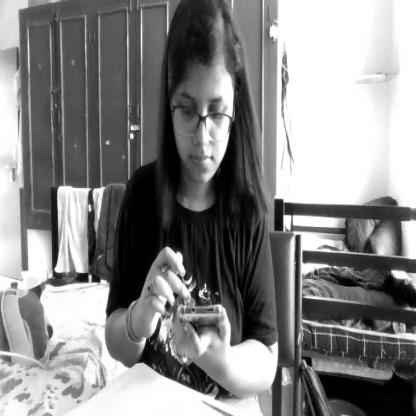Normal: (165, 1, 243, 190)
